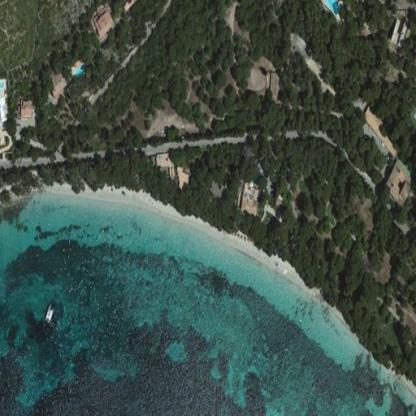ship: (41, 299, 60, 326)
